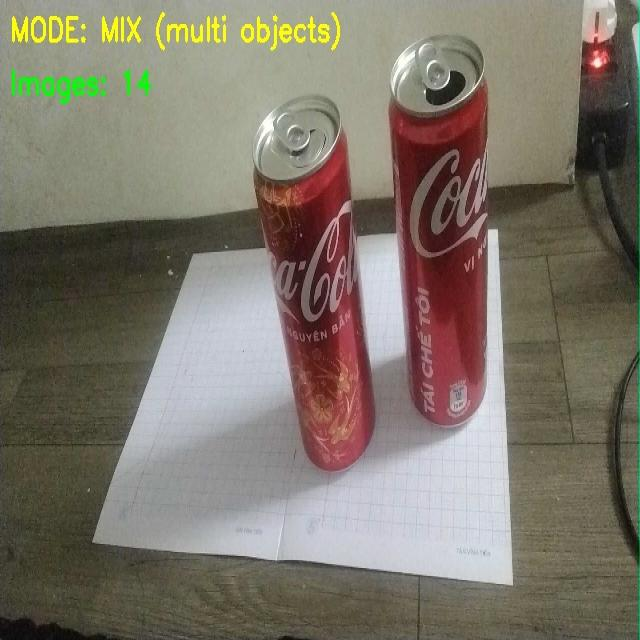Coca: (230, 77, 380, 480)
Coca_open: (387, 40, 516, 444)
